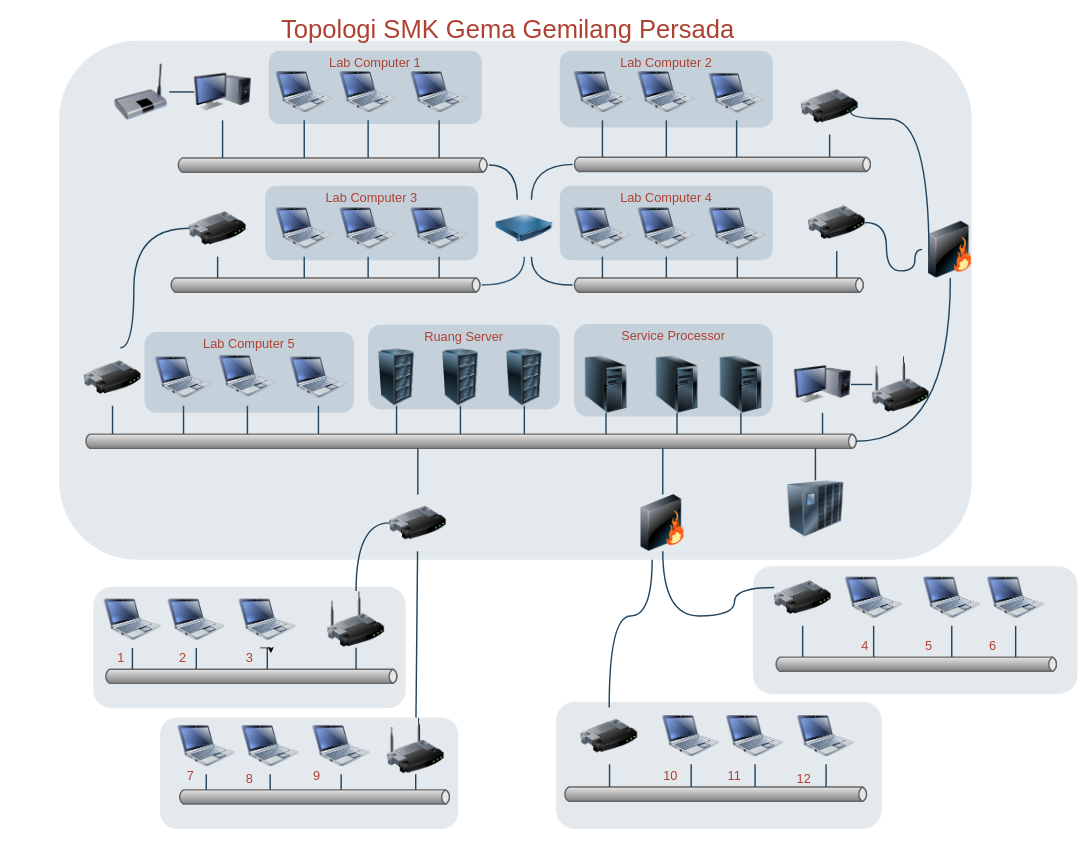
Some shapes in this 1089 by 841 pixel diagram are drawn without their labels. Each missing label, with the box of its shape:
Ruang Belajar 1, 2 dan 3: (93, 586, 405, 708)
Ruang Belajar 10, 11, 12: (556, 701, 881, 829)
Ruang Belajar 4, 5 dan 6: (753, 566, 1077, 694)
Ruang Belajar 7, 8 dan 9: (160, 717, 458, 829)
